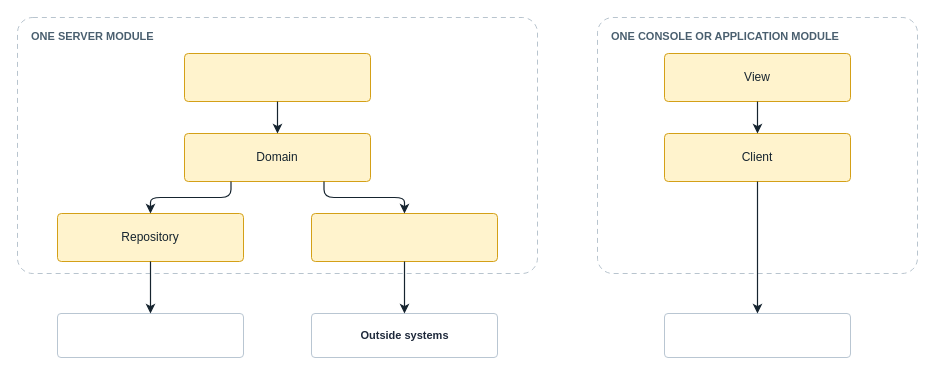
Some shapes in this 935 by 375 pixel diagram are drawn without their labels. The shapes that lost their labels are listed below. From the top down, each one's centre as x and y in pixels, then its label:
At (x=277, y=77): "Controller".
At (x=404, y=237): "Provider".
At (x=150, y=335): "PostgreSQL".
At (x=757, y=335): "Another Module".
